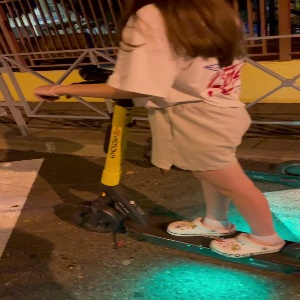human on a scooter: (31, 1, 300, 276)
